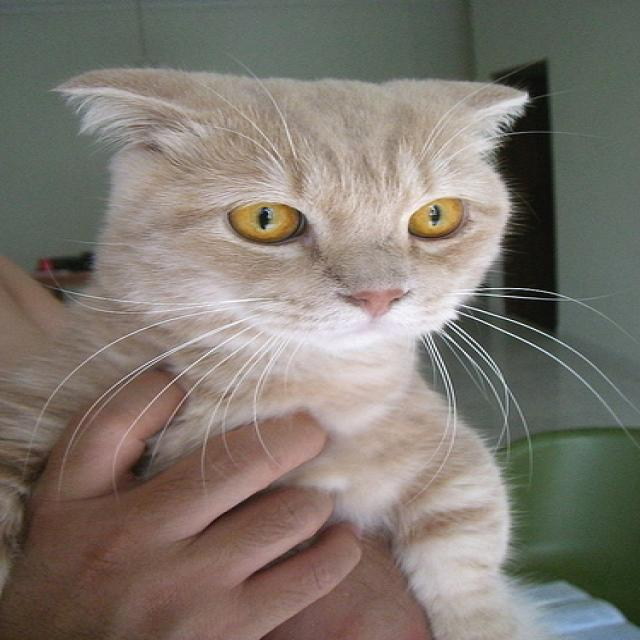cat: (1, 59, 638, 639)
